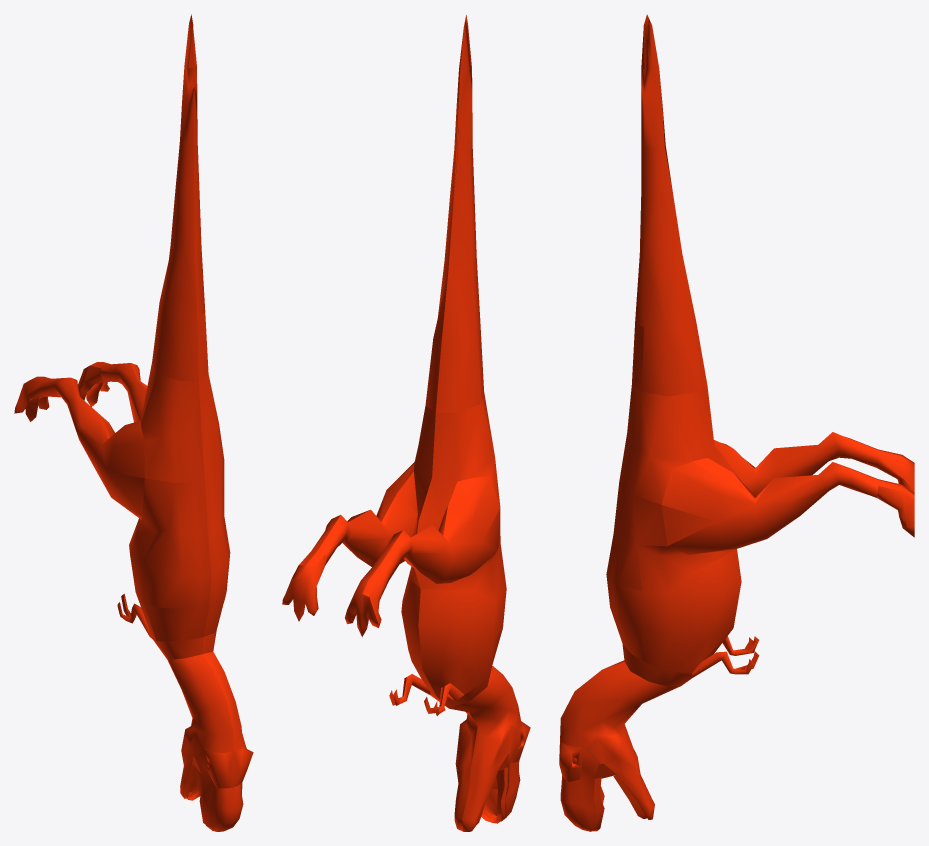
Rendered from albert.obj.
3 views of the same model, side by side, from view 1: azimuth 30°, elevation 25°; view 2: azimuth 150°, elevation 25°; view 3: azimuth 270°, elevation 25° (orthographic). The views are drawn at different scales.
Parts seen in each view (by area): view 1: d_L_HorseLink_mesh; view 2: d_L_HorseLink_mesh; view 3: d_L_HorseLink_mesh.
Part boxes in pixels (box(x1,y1,x2,y2)): d_L_HorseLink_mesh: box(14, 14, 253, 831); d_L_HorseLink_mesh: box(282, 15, 530, 831); d_L_HorseLink_mesh: box(559, 14, 914, 831).
Bounding box in the file's own units: 1.2 × 9.25 × 3.65.
